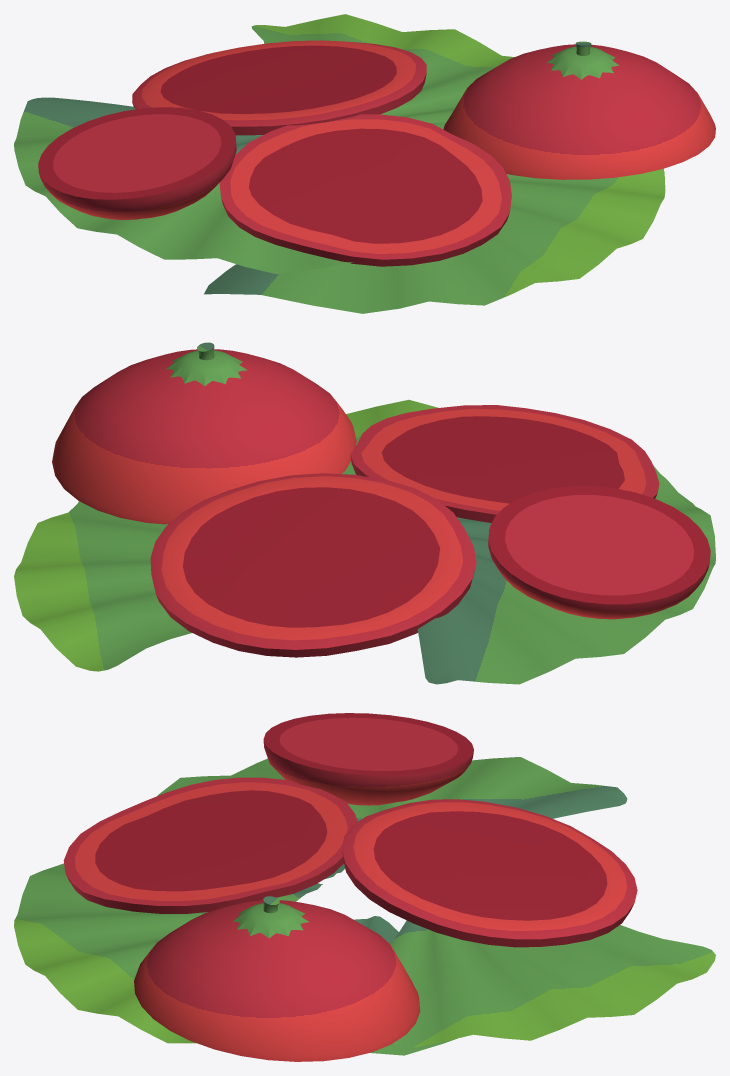
File: lechugaTomate.fbx
The picture shows the model from 3 angles, top to bottom: view 1: azimuth 30°, elevation 25°; view 2: azimuth 150°, elevation 25°; view 3: azimuth 270°, elevation 25°; orthographic projection. The views are drawn at different scales.
Parts seen in each view (by area): view 1: lechugaTomate; view 2: lechugaTomate; view 3: lechugaTomate.
Boxes of the visible parts, <box> form: lechugaTomate: <box>14,14,715,313</box>; lechugaTomate: <box>14,342,715,684</box>; lechugaTomate: <box>14,713,715,1061</box>.
Size of the model in its own units: 74.61 by 15.19 by 71.65.
